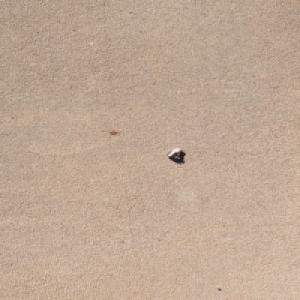MetalPart: (165, 147, 182, 160)
